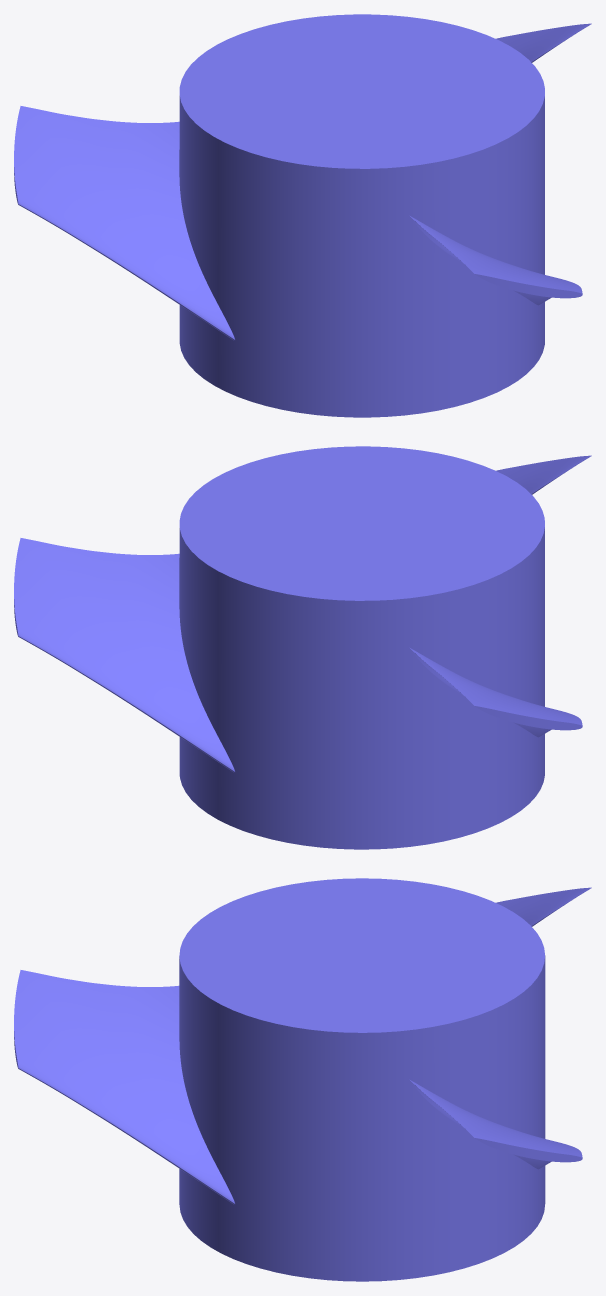
Rendered from lolo_vert_thruster.dae.
3 renders of one model, top to bottom at view 1: azimuth 30°, elevation 25°; view 2: azimuth 150°, elevation 25°; view 3: azimuth 270°, elevation 25°, orthographic.
Parts seen in each view (by area): view 1: PUBLICT200-P-PROPELLER-CW-XJ3-3-solid1; view 2: PUBLICT200-P-PROPELLER-CW-XJ3-3-solid1; view 3: PUBLICT200-P-PROPELLER-CW-XJ3-3-solid1.
Boxes of the visible parts, left/top/right/bottom form: PUBLICT200-P-PROPELLER-CW-XJ3-3-solid1: left=14, top=14, right=591, bottom=417; PUBLICT200-P-PROPELLER-CW-XJ3-3-solid1: left=14, top=446, right=591, bottom=849; PUBLICT200-P-PROPELLER-CW-XJ3-3-solid1: left=14, top=878, right=591, bottom=1281.
Bounding box in the file's own units: 71.71 × 63.22 × 30.02.
